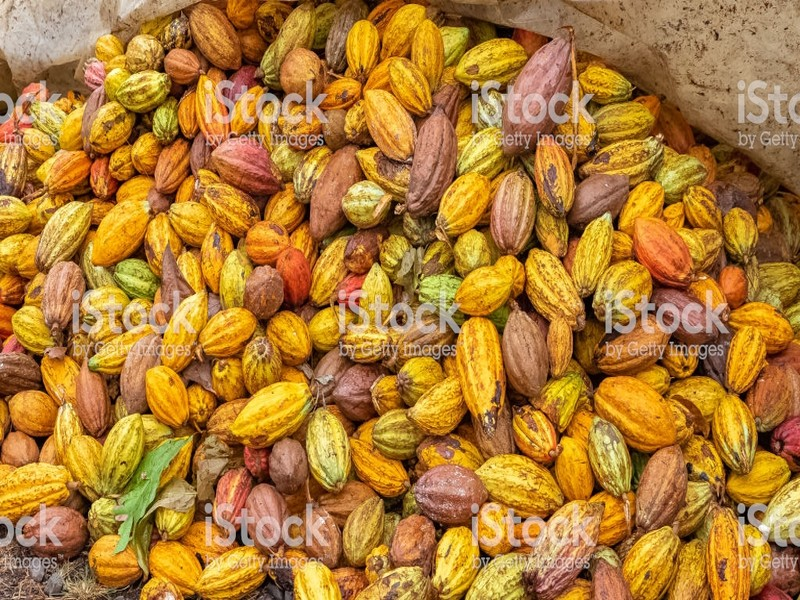Cacaopod: (230, 380, 313, 449), (502, 303, 551, 397), (145, 364, 189, 427)
